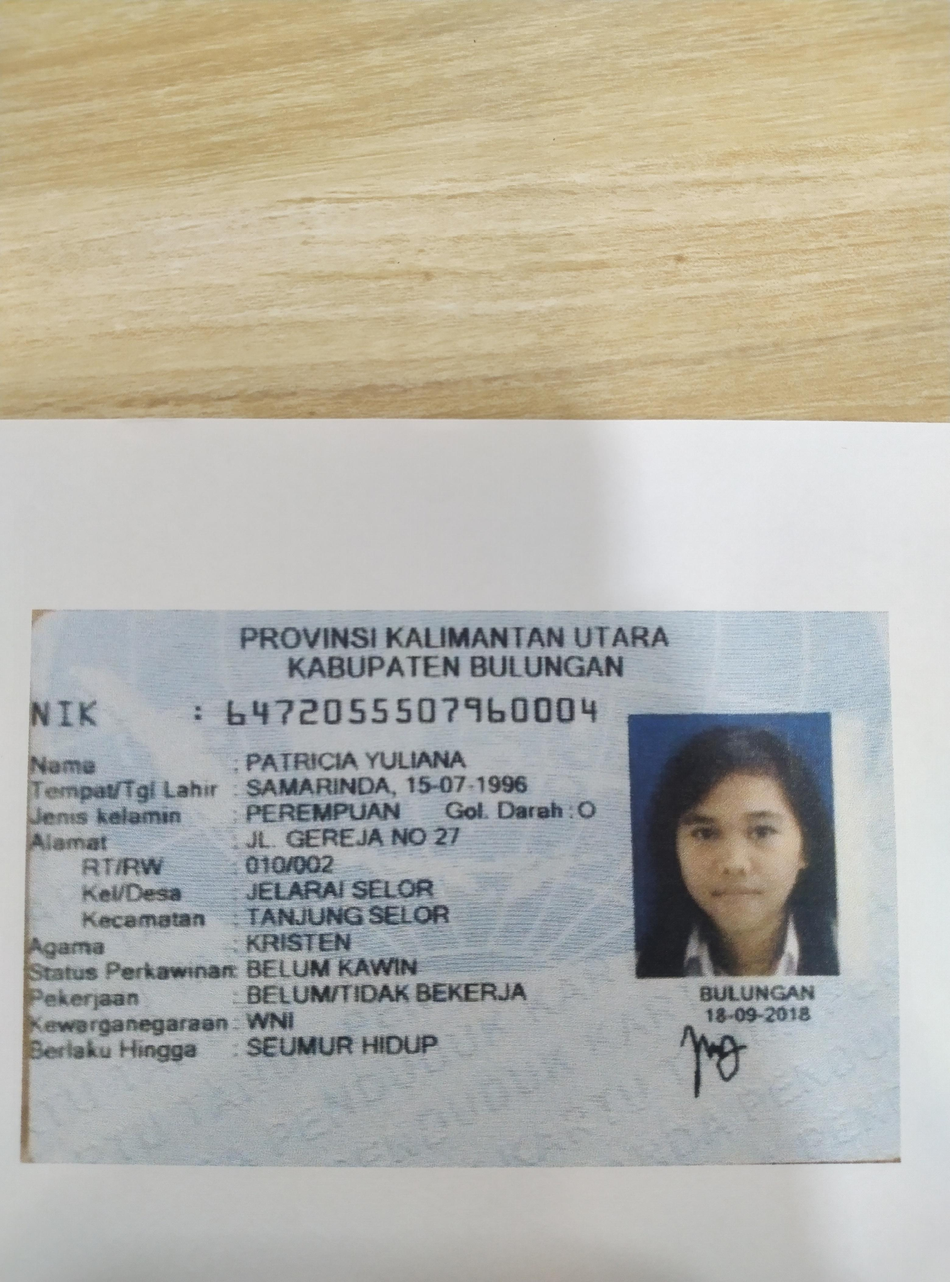ktp: (25, 608, 897, 1159)
